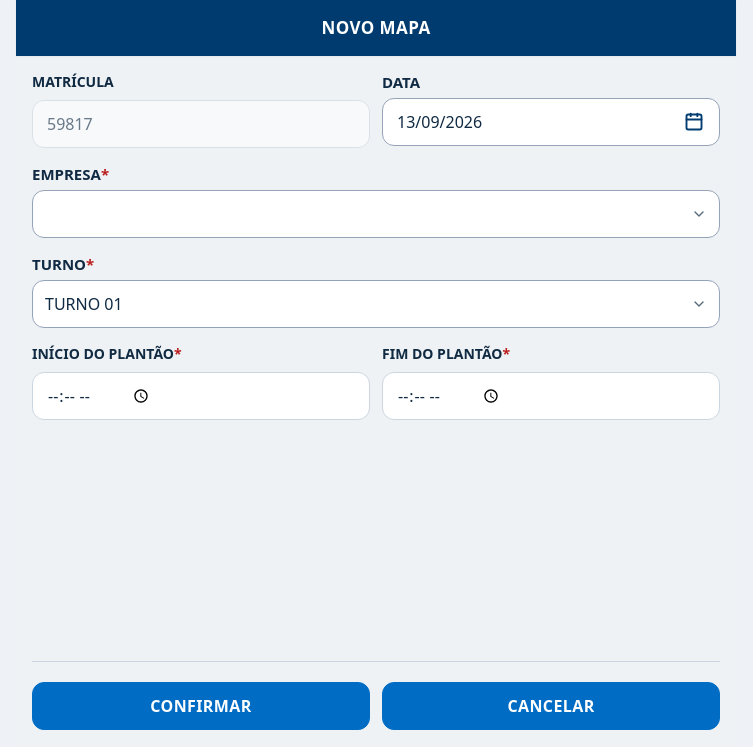
Test: MapaFormScreen Cancelar › Cancelar em Novo MAPA volta à lista sem criar e sem erro startTime
Click the button "Cancelar": click(551, 706) [382, 682, 720, 730]
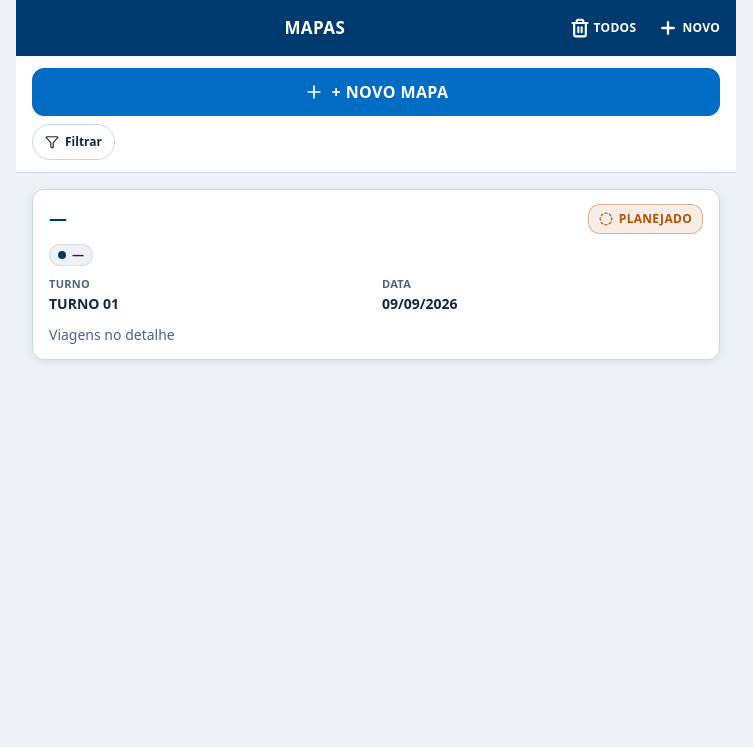
Expected: the heading "Mapas" is shown, [284, 16, 345, 39]
